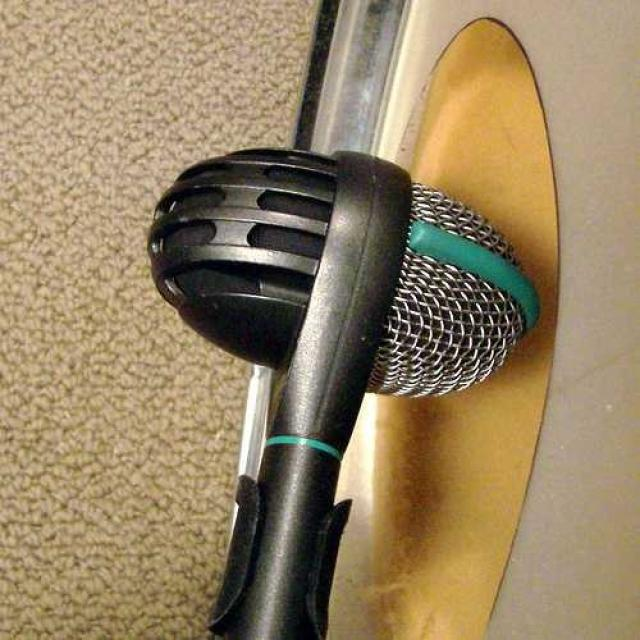microphone: (150, 151, 536, 392)
